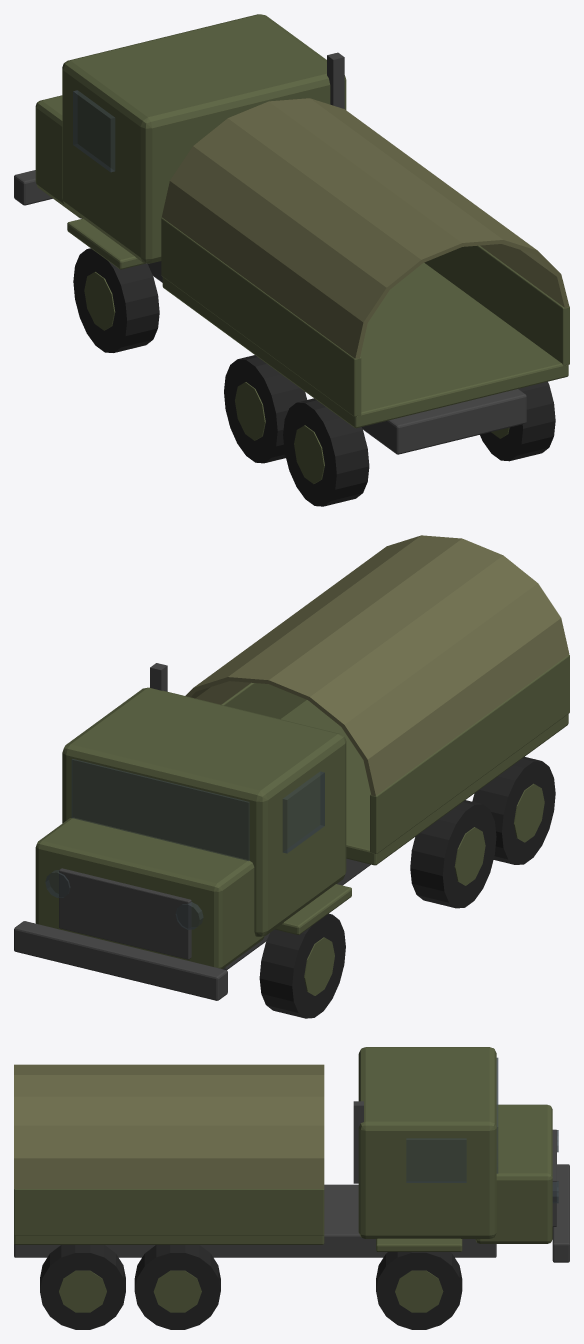
The model's file is kamyon.glb.
The picture shows the model from 3 angles, top to bottom: view 1: azimuth 30°, elevation 25°; view 2: azimuth 150°, elevation 25°; view 3: azimuth 270°, elevation 25°; orthographic projection. The views are drawn at different scales.
Visible parts, largest first — view 1: Camurluk; view 2: Camurluk; view 3: Camurluk.
Boxes of the visible parts, x1=… form: Camurluk: x1=14, y1=14, x2=569, y2=506; Camurluk: x1=14, y1=535, x2=569, y2=1018; Camurluk: x1=14, y1=1047, x2=569, y2=1329.
Size of the model in its own units: 0.3876 by 0.4329 by 1.
